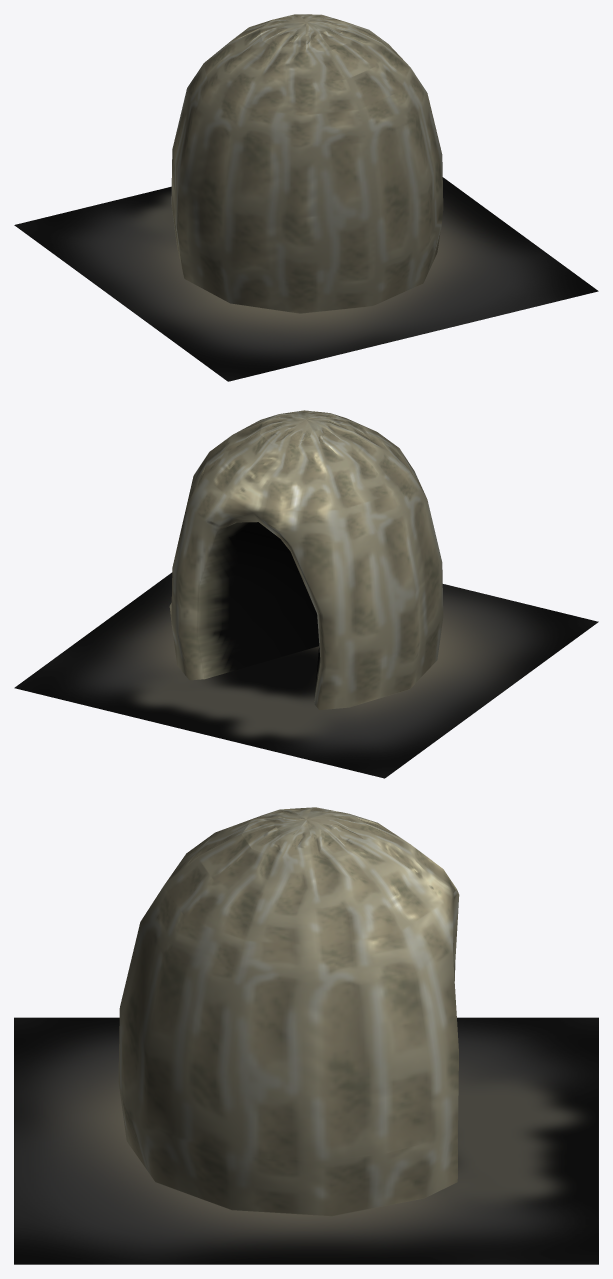
Rendered from world3_house_fbx.fbx.
3 views of the same model, one above another, from view 1: azimuth 30°, elevation 25°; view 2: azimuth 150°, elevation 25°; view 3: azimuth 270°, elevation 25° (orthographic). The views are drawn at different scales.
Parts seen in each view (by area): view 1: nutHut_baked:polySurface1, nutHut_baked:pPlane1; view 2: nutHut_baked:polySurface1, nutHut_baked:pPlane1; view 3: nutHut_baked:polySurface1, nutHut_baked:pPlane1.
Part boxes in pixels (x1,y1,x2,y2): nutHut_baked:polySurface1: (171, 14, 443, 313); nutHut_baked:pPlane1: (14, 177, 598, 381); nutHut_baked:polySurface1: (169, 410, 443, 710); nutHut_baked:pPlane1: (14, 572, 598, 778); nutHut_baked:polySurface1: (118, 807, 459, 1216); nutHut_baked:pPlane1: (14, 1017, 598, 1264).
Size of the model in its own units: 94.81 by 57.52 by 94.81.
